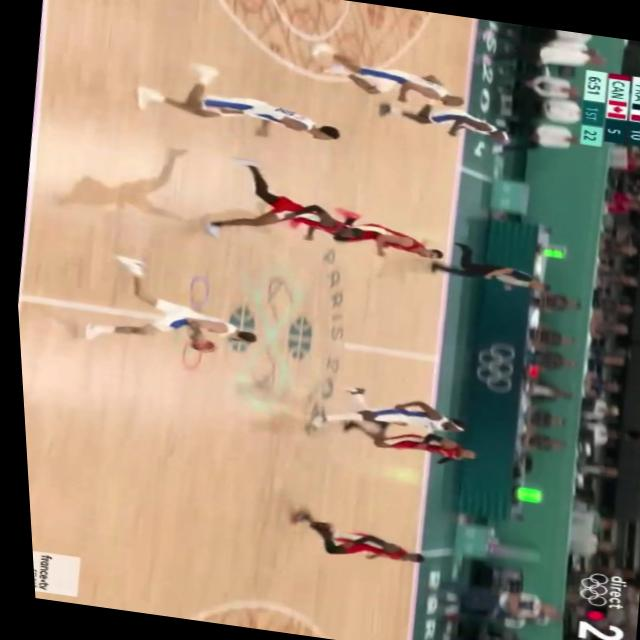ball_handler: (65, 300, 261, 370)
